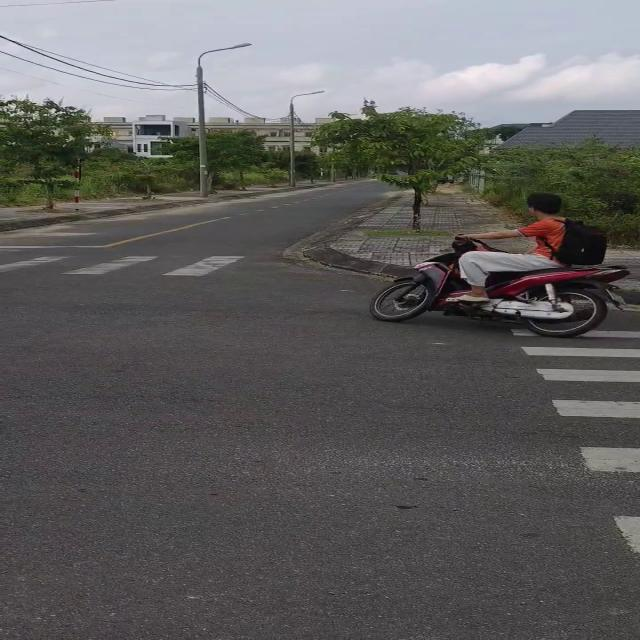no_helmet: (524, 194, 569, 227)
